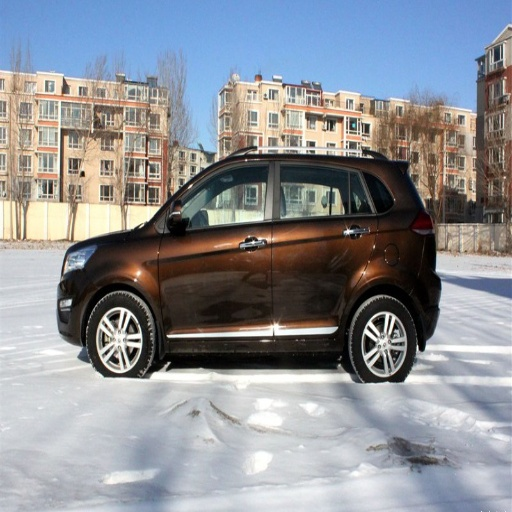back_left_door: (274, 159, 379, 337)
front_left_door: (159, 160, 273, 337)
